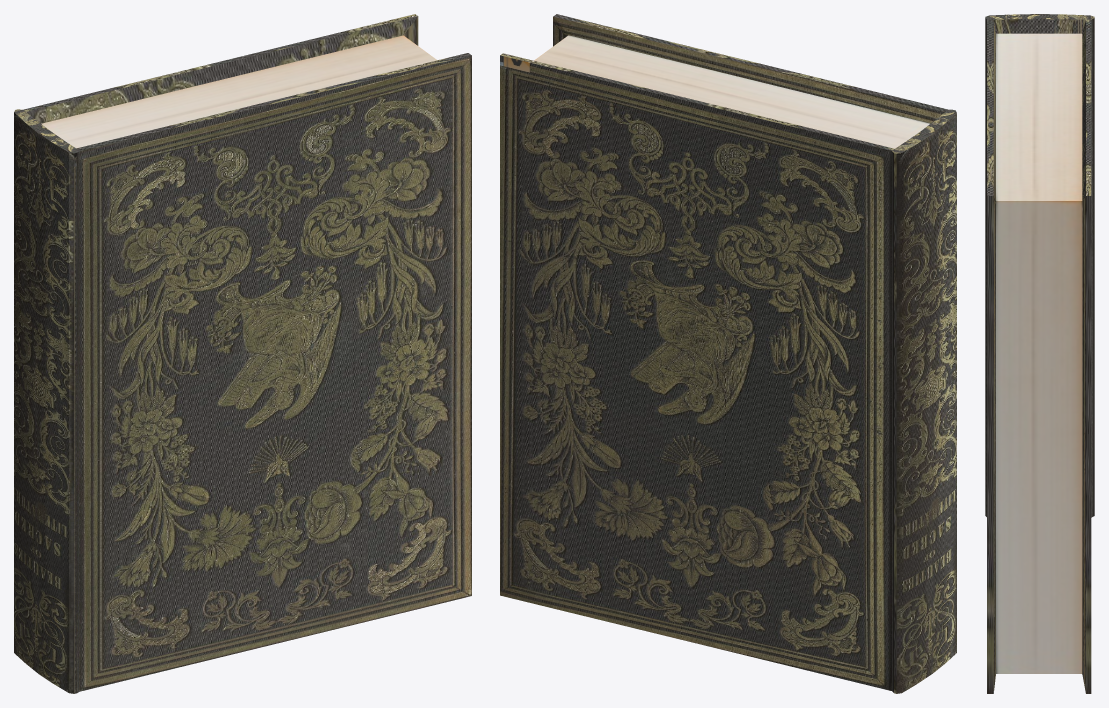
Rendered from book6.fbx.
3 renders of one model, left to right at view 1: azimuth 30°, elevation 25°; view 2: azimuth 150°, elevation 25°; view 3: azimuth 270°, elevation 25°, orthographic. The views are drawn at different scales.
Parts seen in each view (by area): view 1: Cube; view 2: Cube; view 3: Cube.
Boxes of the visible parts, x1,y1,x2,y2 form: Cube: [14, 14, 471, 693]; Cube: [500, 14, 956, 693]; Cube: [985, 14, 1094, 693].
Bounding box in the file's own units: 7.81 × 9.97 × 1.98.
Materials: 2 (2 with a texture image).
